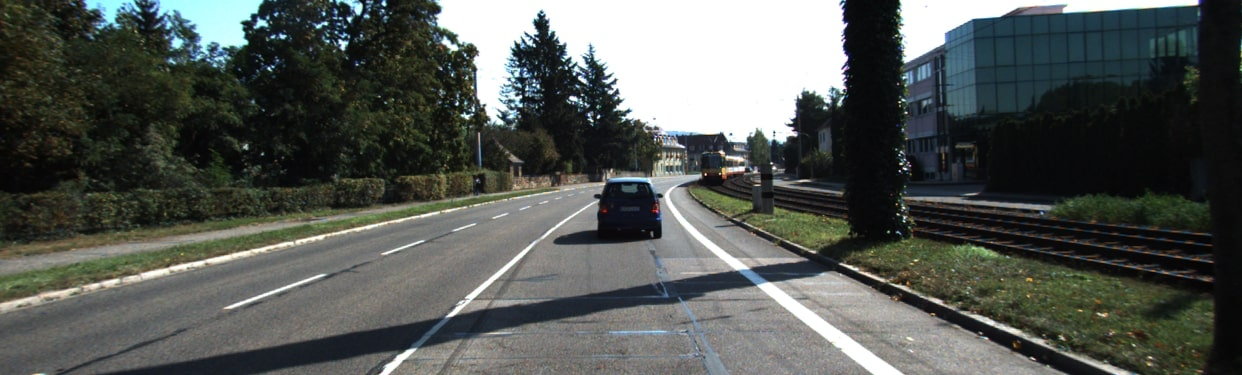Tram: (699, 148, 756, 187)
car: (587, 173, 678, 245)
